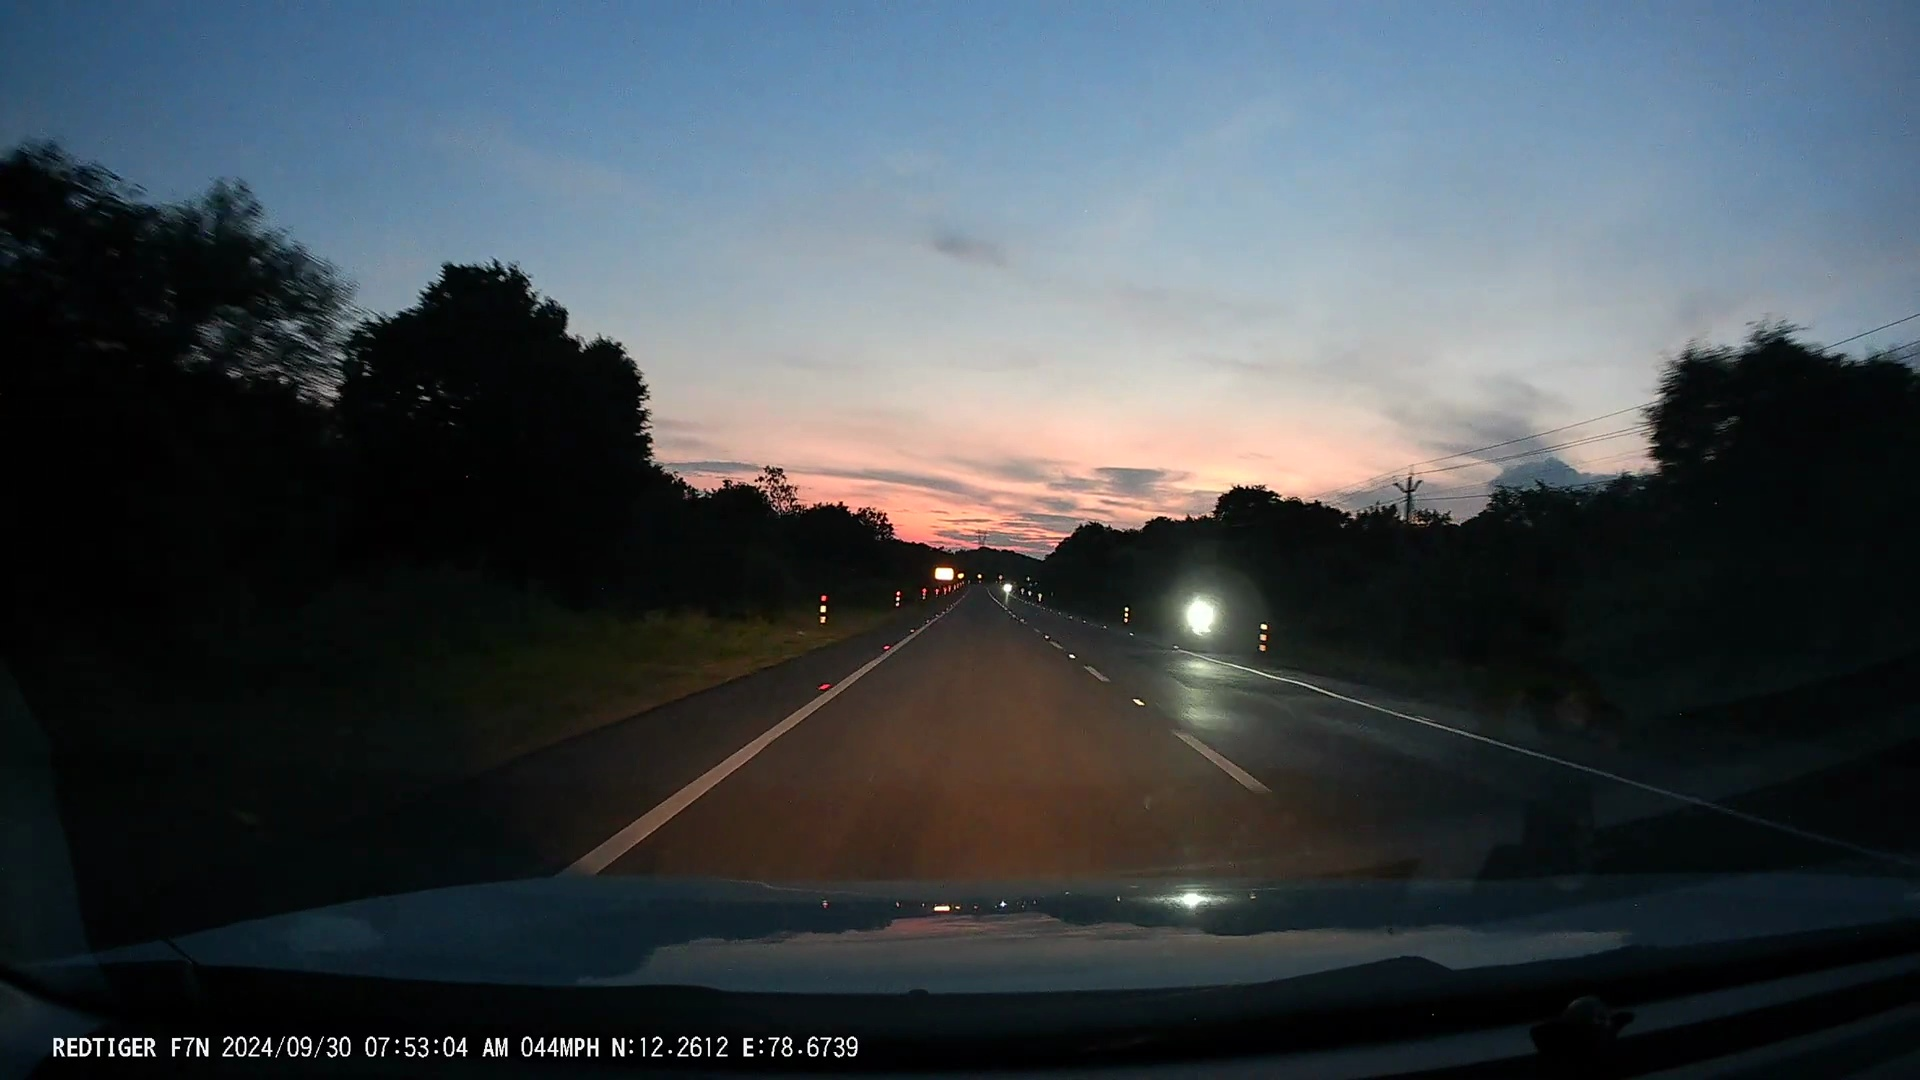headlight: (1189, 596, 1211, 640), (1002, 583, 1011, 593)
two wheeler: (1183, 582, 1215, 651), (1001, 576, 1011, 600)
